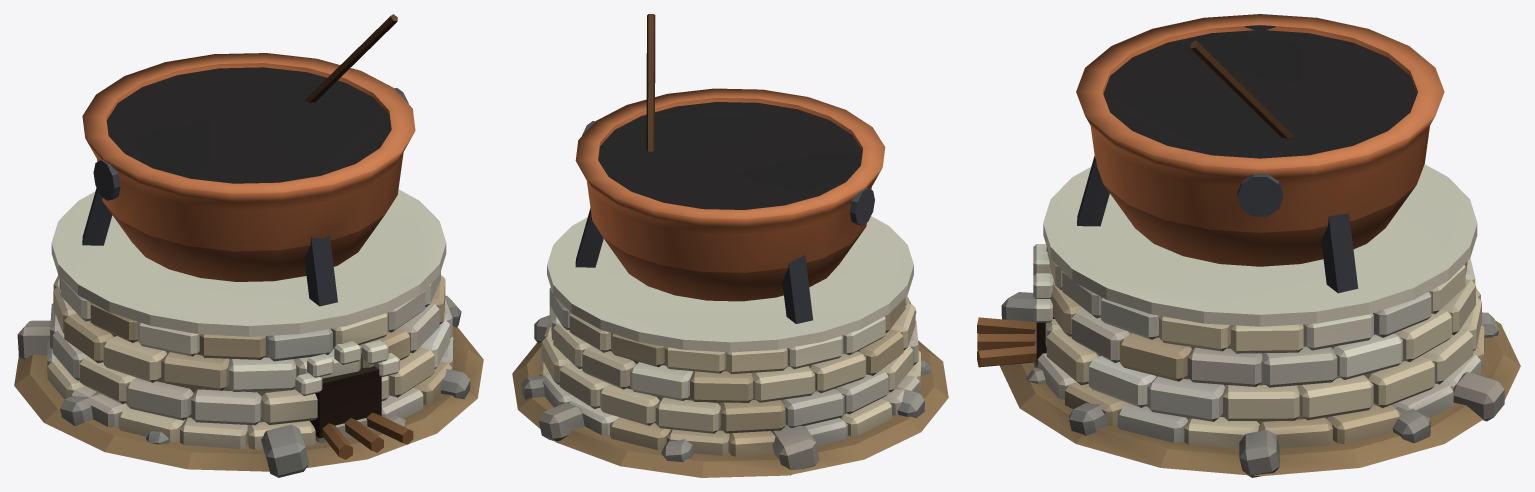
Rendered from tar_tower.glb.
3 views of the same model, side by side, from view 1: azimuth 30°, elevation 25°; view 2: azimuth 150°, elevation 25°; view 3: azimuth 270°, elevation 25° (orthographic). The views are drawn at different scales.
Visible parts, largest first — view 1: tar_tower; view 2: tar_tower; view 3: tar_tower.
Part boxes in pixels (x1,y1,x2,y2): tar_tower: (14,14,483,477); tar_tower: (512,14,948,477); tar_tower: (977,14,1520,477).
Bounding box in the file's own units: 0.7957 × 0.6591 × 0.8264.
